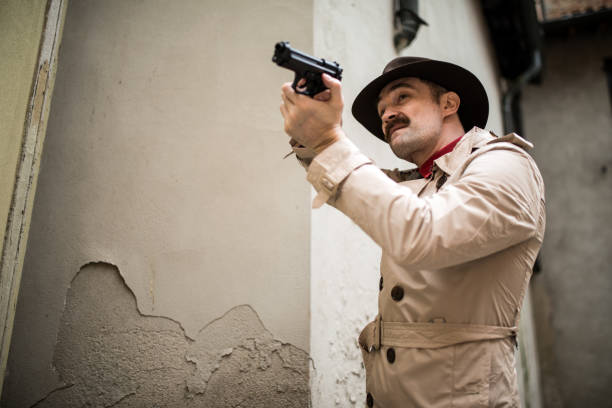gun: (270, 40, 345, 95)
